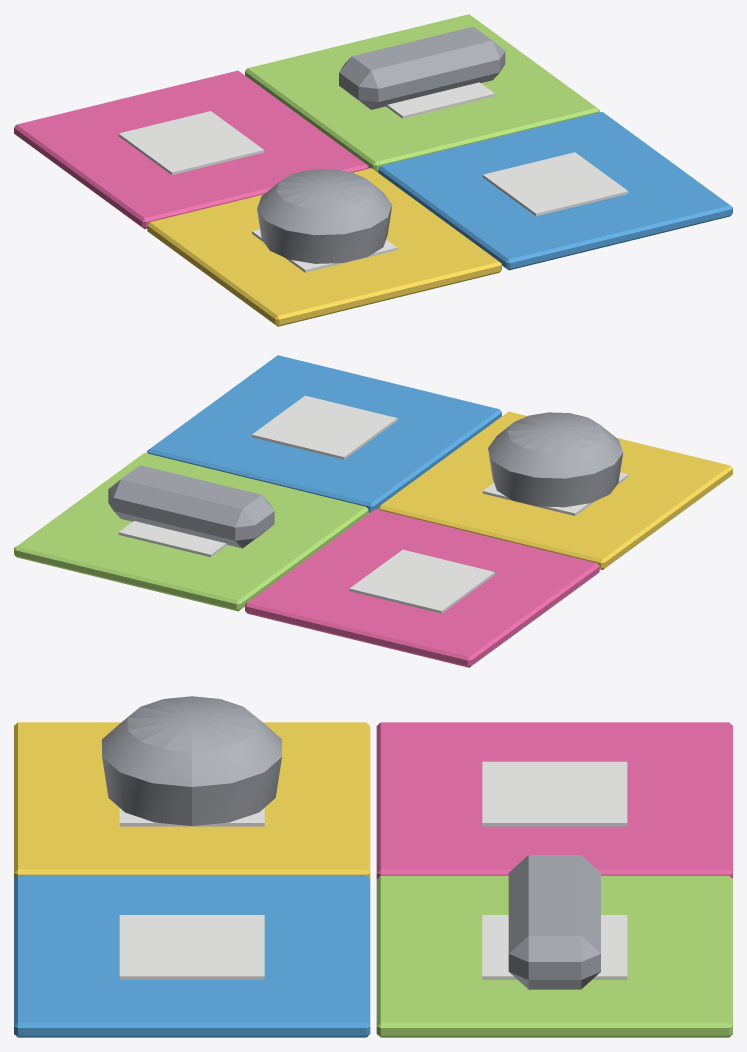
Rendered from trampoline-park-and-soft-play-toddler-play-mat-set-c5851384__34627.glb.
3 renders of one model, top to bottom at view 1: azimuth 30°, elevation 25°; view 2: azimuth 150°, elevation 25°; view 3: azimuth 270°, elevation 25°, orthographic. The views are drawn at different scales.
Parts seen in each view (by area): view 1: toddler-play-mat-set; view 2: toddler-play-mat-set; view 3: toddler-play-mat-set.
Boxes of the visible parts, x1,y1,x2,y2 form: toddler-play-mat-set: [14, 14, 732, 326]; toddler-play-mat-set: [14, 355, 732, 667]; toddler-play-mat-set: [14, 696, 732, 1037].
Bounding box in the file's own units: 2.18 × 0.31 × 2.18.
